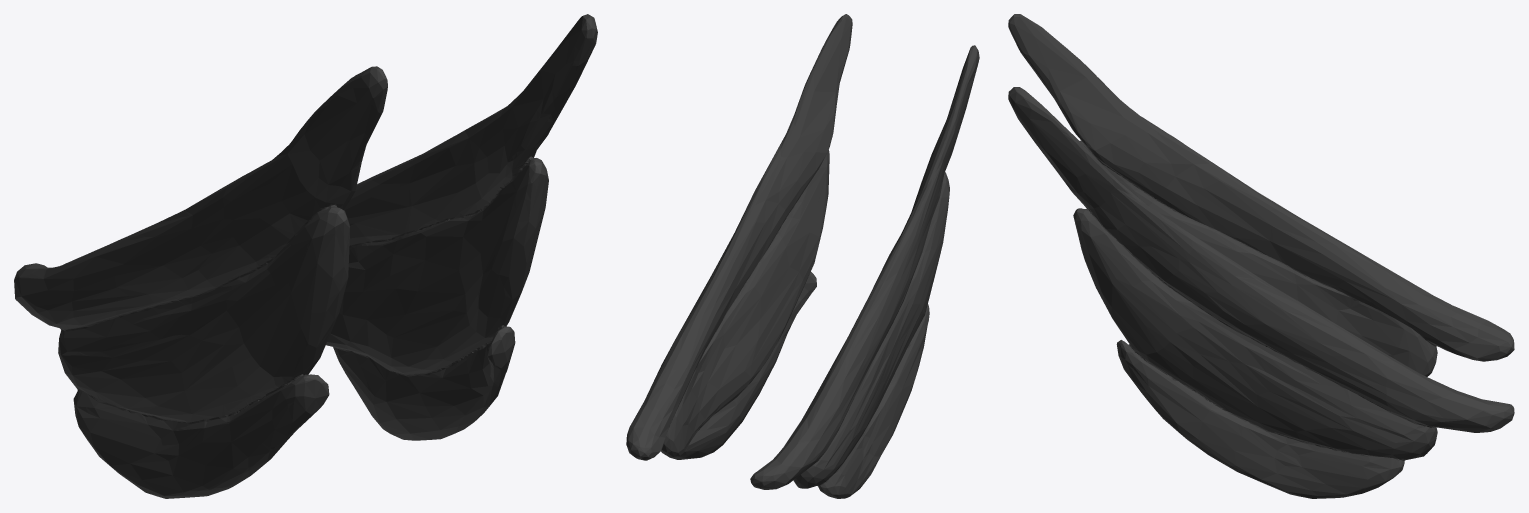
The model's file is m_longissimus_cervicis.glb.
The picture shows the model from 3 angles, left to right: view 1: azimuth 30°, elevation 25°; view 2: azimuth 150°, elevation 25°; view 3: azimuth 270°, elevation 25°; orthographic projection. The views are drawn at different scales.
Visible parts, largest first — view 1: m_longissimus_cervicis; view 2: m_longissimus_cervicis; view 3: m_longissimus_cervicis.
Boxes of the visible parts, x1,y1,x2,y2 form: m_longissimus_cervicis: [14, 14, 597, 498]; m_longissimus_cervicis: [626, 14, 979, 498]; m_longissimus_cervicis: [1008, 14, 1514, 498].
Size of the model in its own units: 0.00247 by 0.00458 by 0.00518.
1 material, 1 textured.
